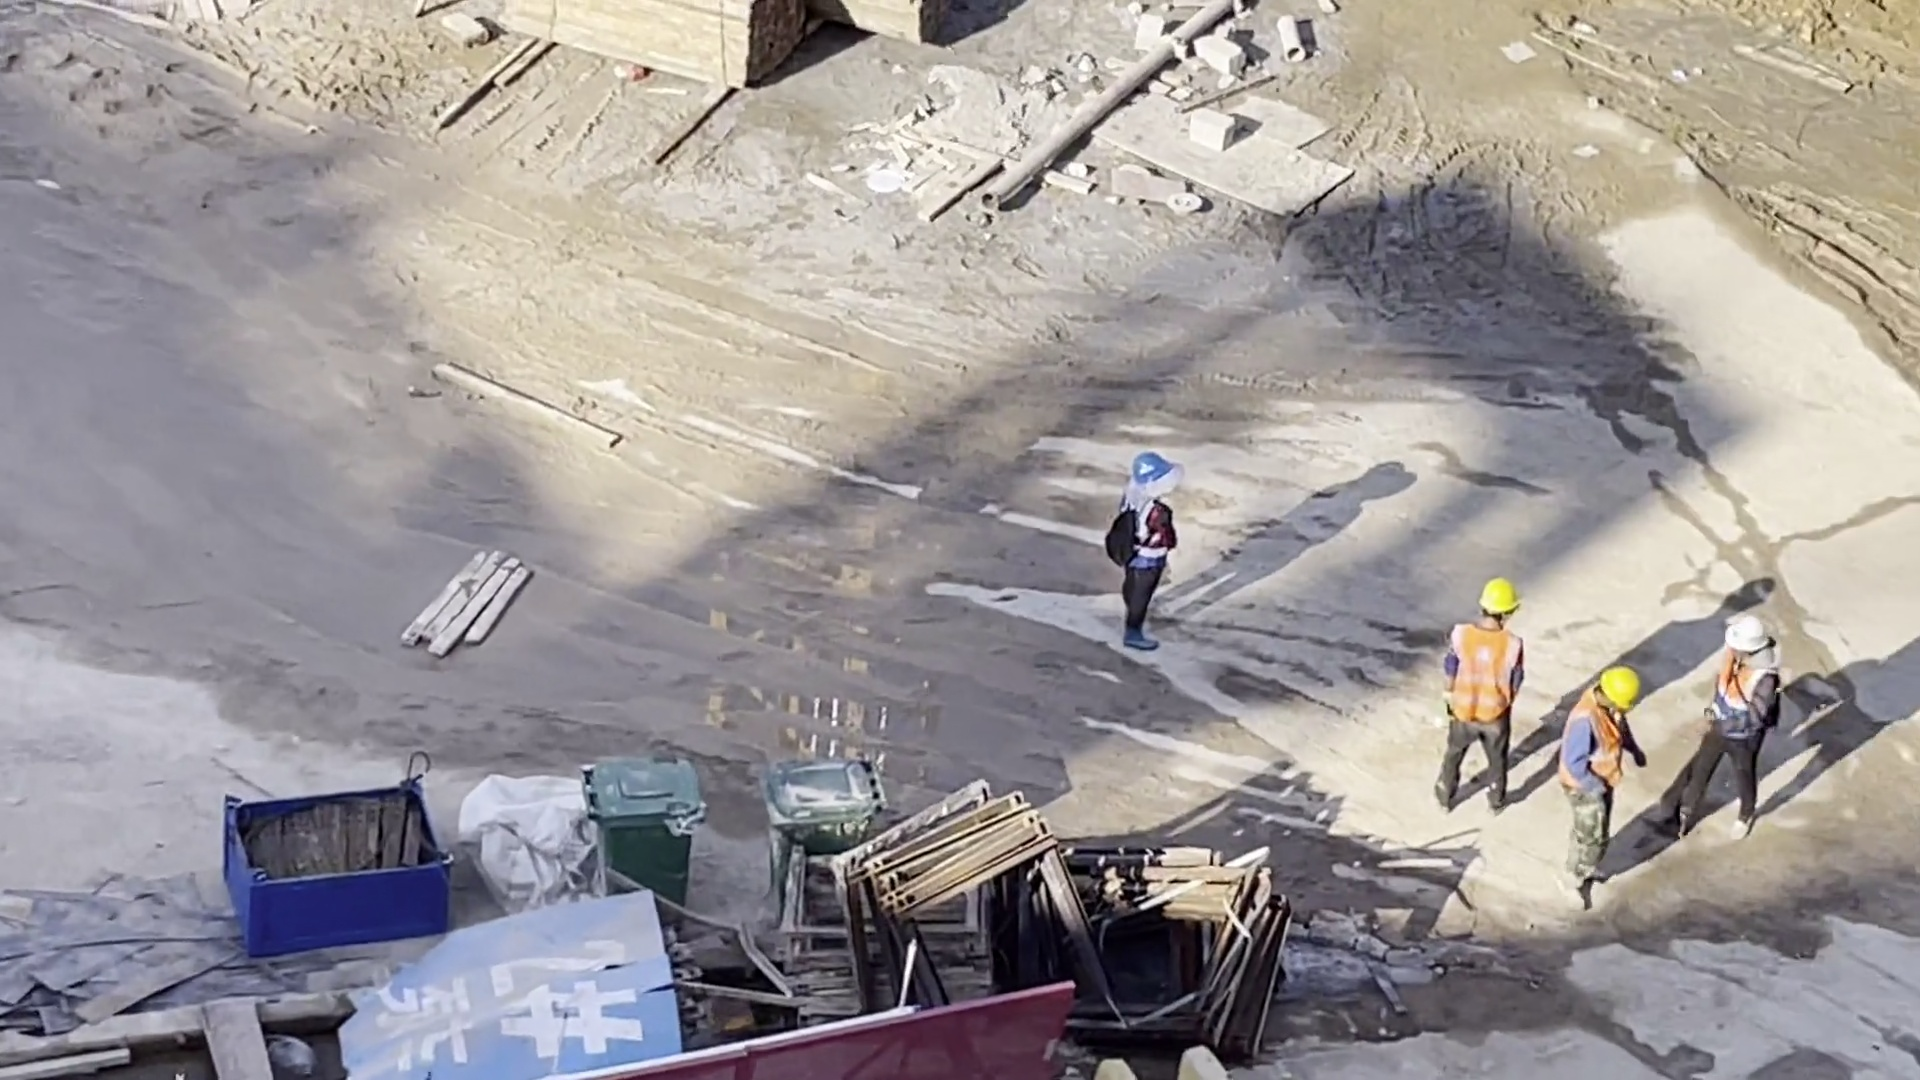helmet: (1596, 665, 1639, 711), (1723, 615, 1770, 651), (1483, 572, 1521, 612), (1129, 453, 1171, 479)
hopper: (223, 787, 447, 960)
person: (1432, 577, 1516, 811), (1685, 624, 1775, 841), (1563, 665, 1635, 904), (1111, 457, 1179, 653)
vest: (1446, 622, 1520, 714), (1566, 695, 1632, 784), (1716, 653, 1765, 716), (1124, 503, 1167, 569)
wood: (526, 1, 780, 85)
